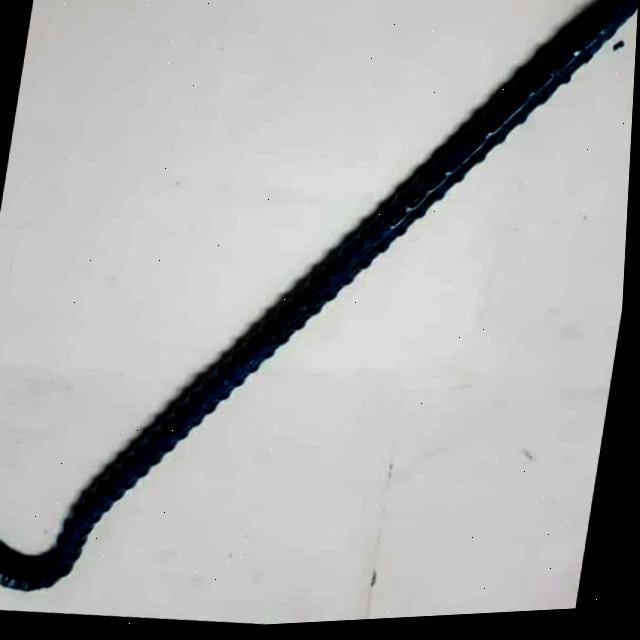crow bar: (0, 4, 639, 602)
